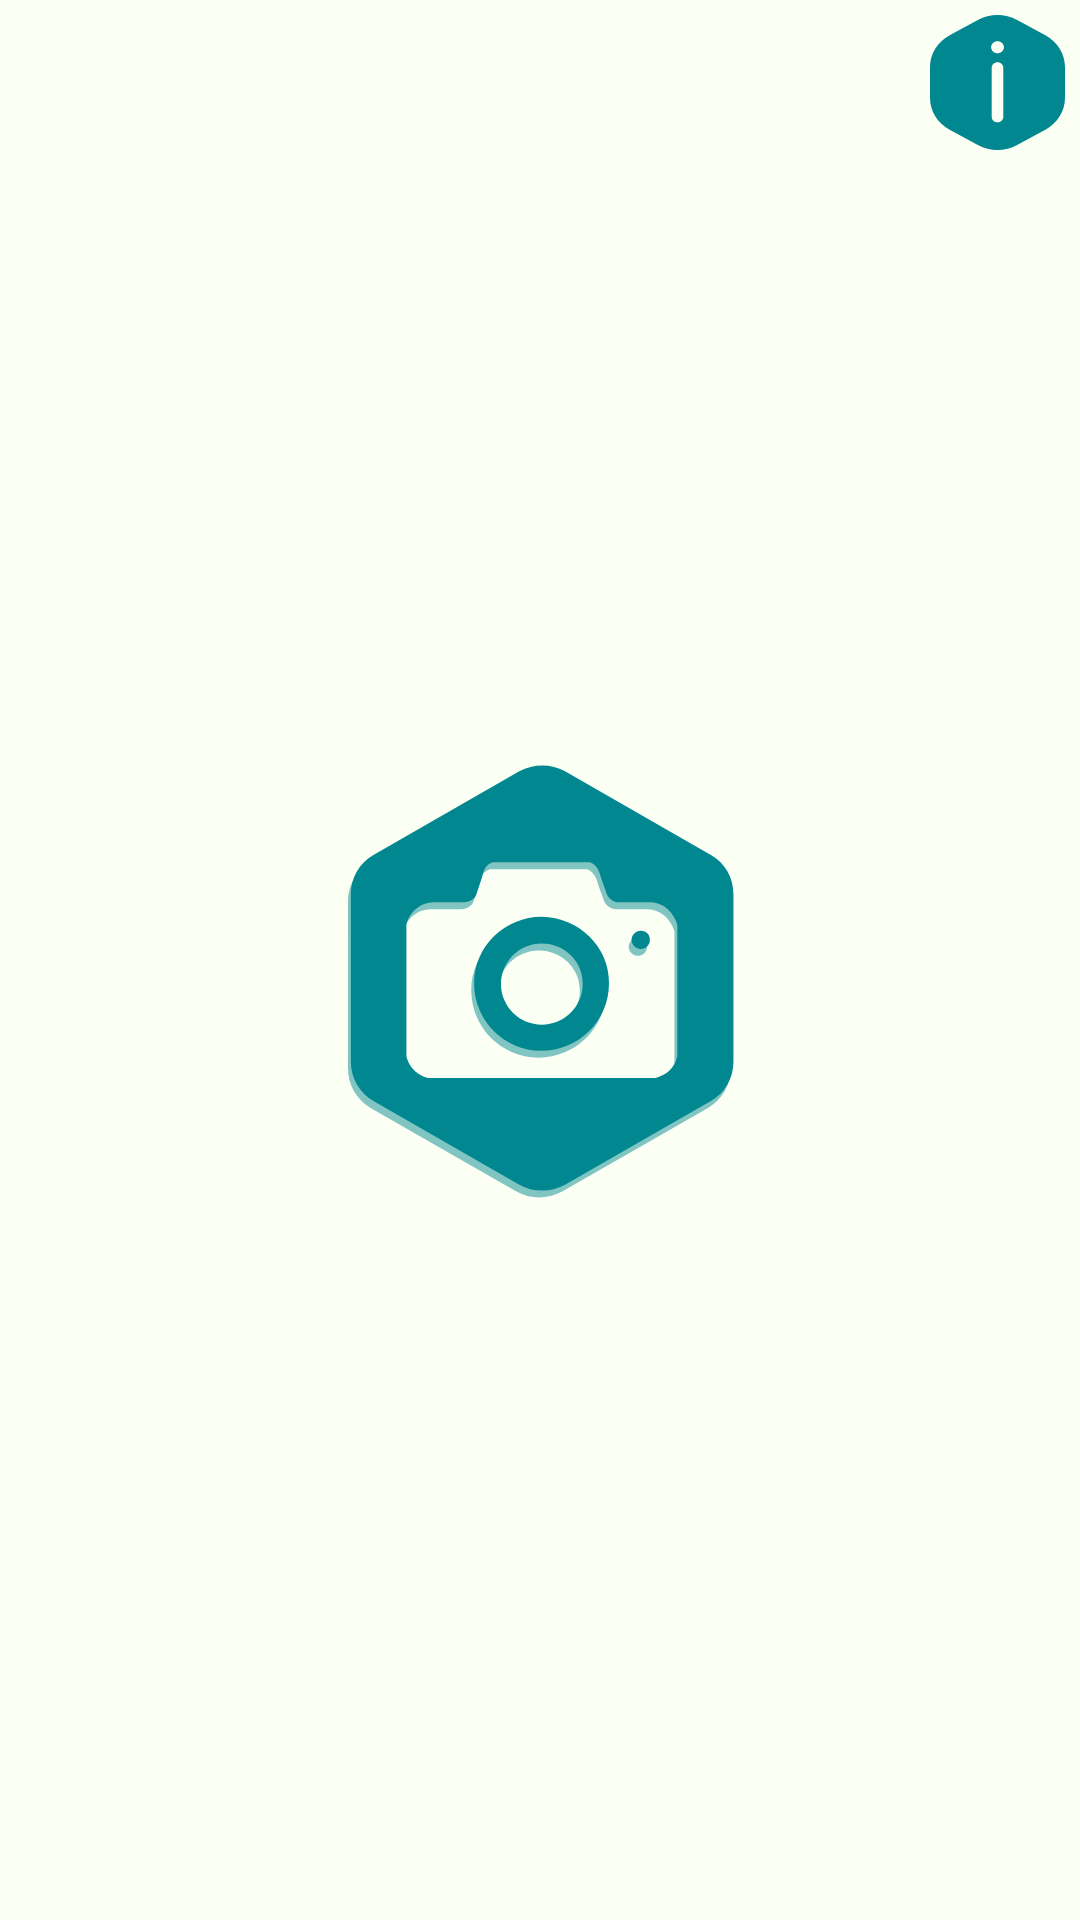

Locate icon controls on the screen. Image size 1080w x 1920h, boxes as (x1, y1, x2, y2).
info: (930, 15, 1065, 150)
